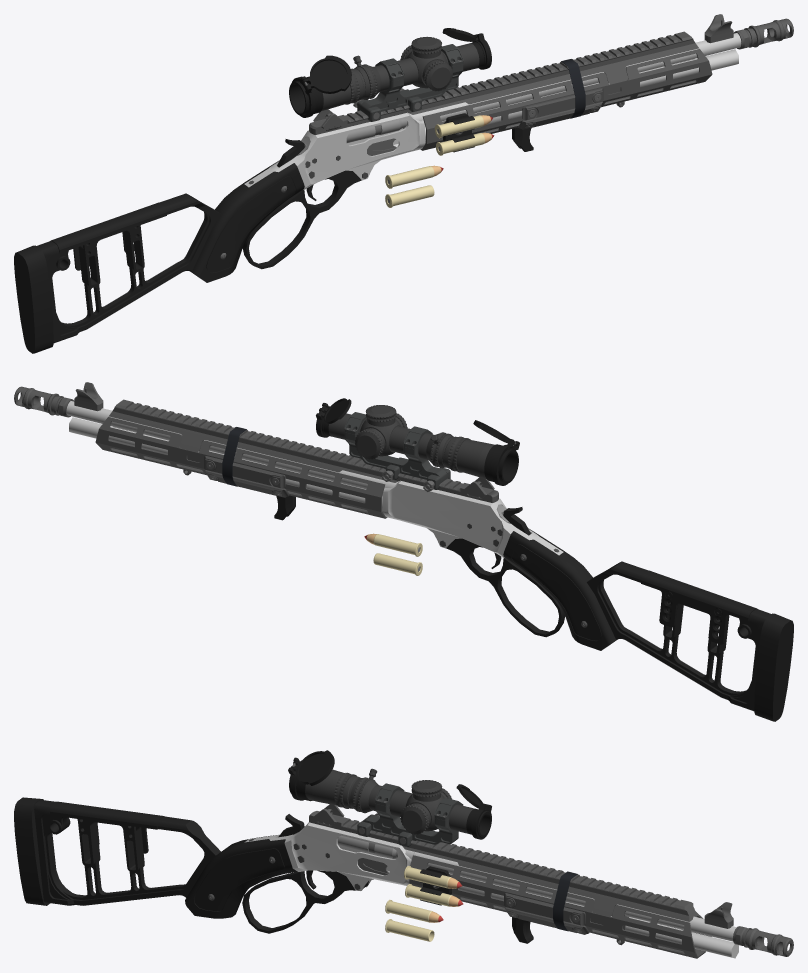
Rendered from marlin1895midwest1.gltf.
3 views of the same model, one above another, from view 1: azimuth 30°, elevation 25°; view 2: azimuth 150°, elevation 25°; view 3: azimuth 330°, elevation 25° (orthographic).
Visible parts, largest first — view 1: midwestmarlinstock, marlinbase, midwesttop, midwestmlokhandguard, atacr, atacrcap, ordnancebadgermount, lever, railscaleshtp, muzzle, bolt, 4570 (+5 smaller); view 2: midwestmarlinstock, marlinbase, midwestmlokhandguard, midwesttop, atacr, ordnancebadgermount, atacrcap, lever, railscaleshtp, muzzle, 4570, band (+2 smaller); view 3: midwestmarlinstock, marlinbase, midwesttop, midwestmlokhandguard, atacr, ordnancebadgermount, atacrcap, lever, railscaleshtp, muzzle, 4570, band (+8 smaller).
Part boxes in pixels (x1,y1,x2,y2): midwestmarlinstock: [14, 160, 304, 353]; marlinbase: [244, 33, 741, 189]; midwesttop: [309, 31, 698, 134]; midwestmlokhandguard: [420, 49, 712, 150]; atacr: [321, 36, 479, 110]; atacrcap: [289, 28, 491, 117]; ordnancebadgermount: [353, 44, 463, 121]; lever: [242, 170, 361, 269]; railscaleshtp: [518, 88, 603, 129]; muzzle: [733, 18, 793, 49]; bolt: [298, 119, 406, 154]; 4570: [385, 165, 443, 188]; midwestmarlinstock: [503, 528, 793, 721]; marlinbase: [66, 401, 563, 557]; midwestmlokhandguard: [95, 417, 387, 518]; midwesttop: [109, 399, 498, 502]; atacr: [328, 405, 494, 478]; ordnancebadgermount: [344, 412, 450, 491]; atacrcap: [316, 398, 519, 485]; lever: [446, 538, 565, 637]; railscaleshtp: [204, 456, 289, 497]; muzzle: [14, 386, 74, 417]; 4570: [364, 533, 422, 556]; band: [222, 427, 246, 486]; midwestmarlinstock: [14, 797, 297, 918]; marlinbase: [244, 822, 738, 958]; midwesttop: [309, 811, 698, 921]; midwestmlokhandguard: [409, 855, 711, 958]; atacr: [305, 769, 474, 834]; ordnancebadgermount: [357, 783, 463, 846]; atacrcap: [288, 750, 491, 839]; lever: [242, 870, 368, 933]; railscaleshtp: [504, 893, 589, 934]; muzzle: [733, 926, 793, 956]; 4570: [385, 899, 443, 922]; band: [553, 871, 577, 931].
Bounding box in the file's own units: 8.47 × 2.36 × 0.6319.
